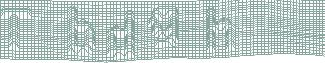9: (148, 6, 180, 50)
T: (1, 7, 33, 52)
b: (66, 5, 98, 56)
d: (105, 10, 135, 59)
h: (205, 6, 237, 54)
